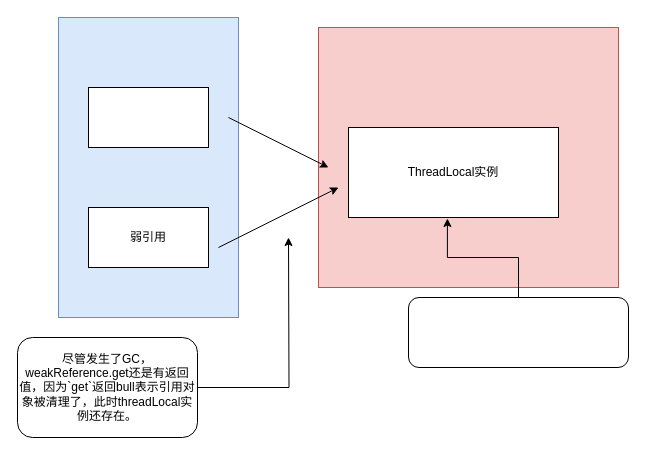
The diagram is 646 pixels wide and 455 high, and some of its shapes have lost their labels. Each missing label, with the centre of its shape:
对象被回收，条件是没有被引用: point 518,332
强引用: point 148,117
